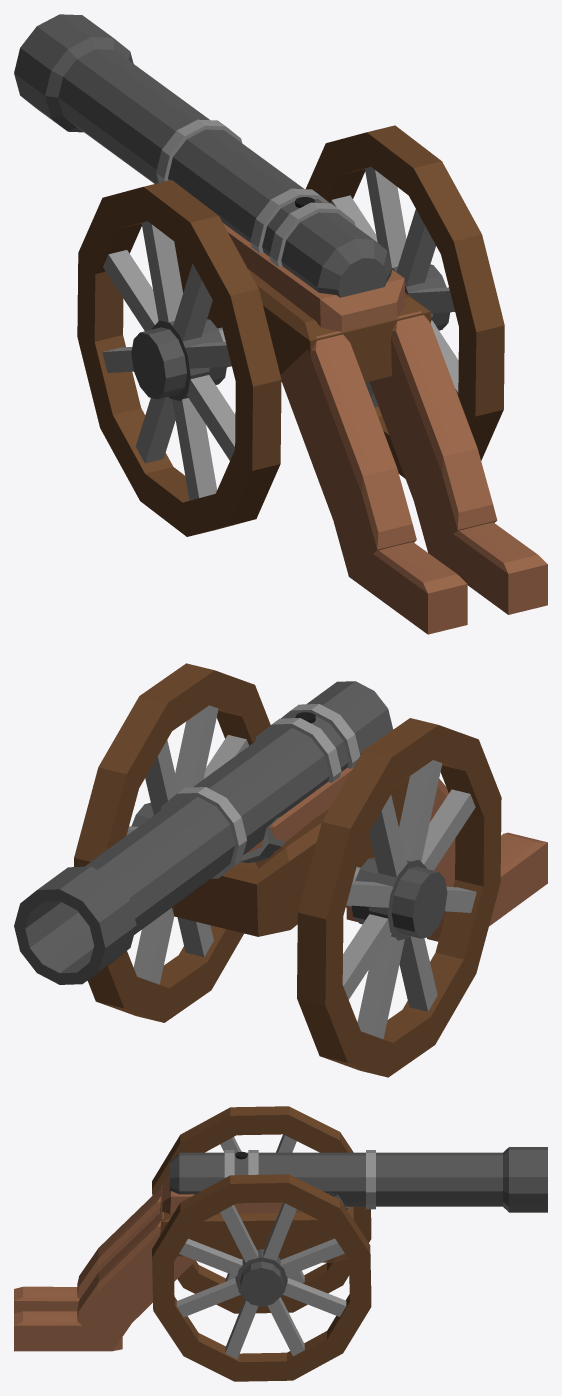
The model's file is cannon.fbx.
3 renders of one model, top to bottom at view 1: azimuth 30°, elevation 25°; view 2: azimuth 150°, elevation 25°; view 3: azimuth 270°, elevation 25°, orthographic. The views are drawn at different scales.
Visible parts, largest first — view 1: Base, Wheel, Barrel, Wheel.001; view 2: Wheel, Barrel, Wheel.001, Base; view 3: Wheel.001, Base, Barrel, Wheel.
Boxes of the visible parts, x1,y1,x2,y2 form: Base: (174, 223, 547, 634); Wheel: (77, 180, 281, 536); Barrel: (14, 14, 392, 297); Wheel.001: (306, 125, 504, 478); Wheel: (297, 718, 501, 1077); Barrel: (14, 681, 393, 984); Wheel.001: (74, 663, 270, 1022); Base: (172, 767, 547, 941); Wheel.001: (152, 1174, 371, 1381); Base: (14, 1174, 353, 1351); Barrel: (169, 1147, 547, 1212); Wheel: (152, 1106, 371, 1313).
Size of the model in its own units: 130 by 138 by 337.
